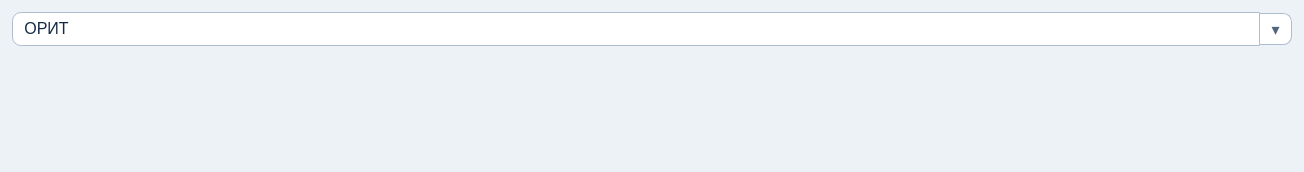
Test: renames and deletes a saved department and updates the selected text
The image size is (1304, 172).
Click the button named "Показать ранее введённые отделения" at {"x": 1276, "y": 29}, box [1260,13,1292,45]
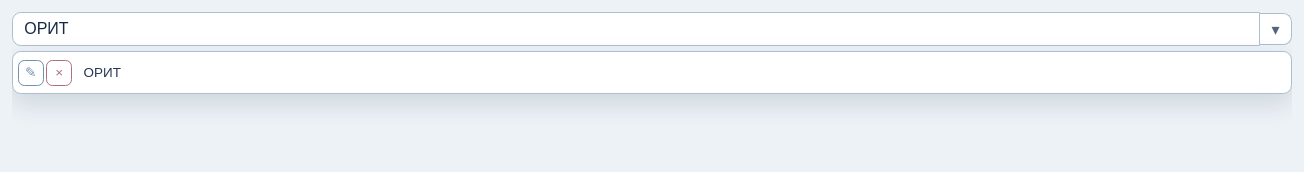
Expected: the button "ОРИТ" is shown, [75,57,1276,89]
Click the button named "Изменить значение" at {"x": 31, "y": 73}, box [18,60,44,86]
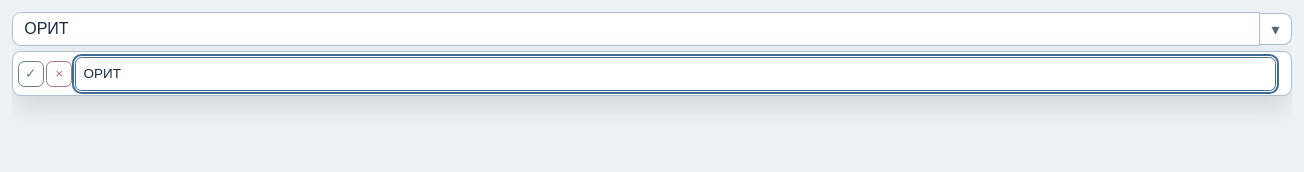
Replace the text in the field named "Изменить: Отделение" with "Новое отделение" at {"x": 675, "y": 74}, box [75,57,1276,91]
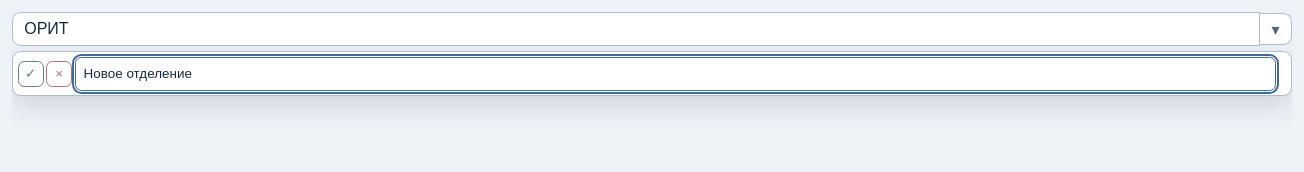
Click the button named "Сохранить изменение" at {"x": 31, "y": 74}, box [18,61,44,87]
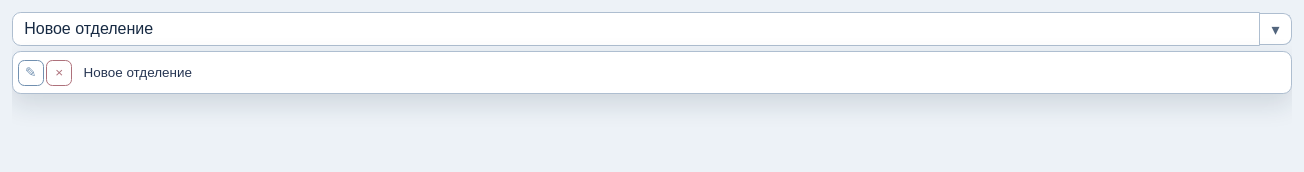
Expected: the field named "Отделение" holds "Новое отделение", [12,12,1260,46]
Expected: the button "Новое отделение" is shown, [75,57,1276,89]
Click the button named "Удалить значение" at {"x": 59, "y": 73}, box [46,60,72,86]
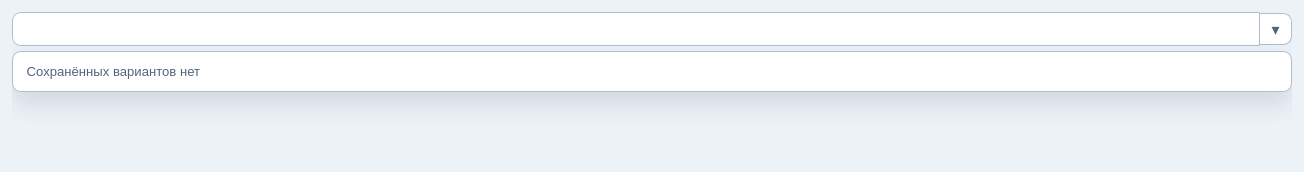
Expected: the field named "Отделение" is empty, [12,12,1260,46]
Expected: the button "Новое отделение" is gone
